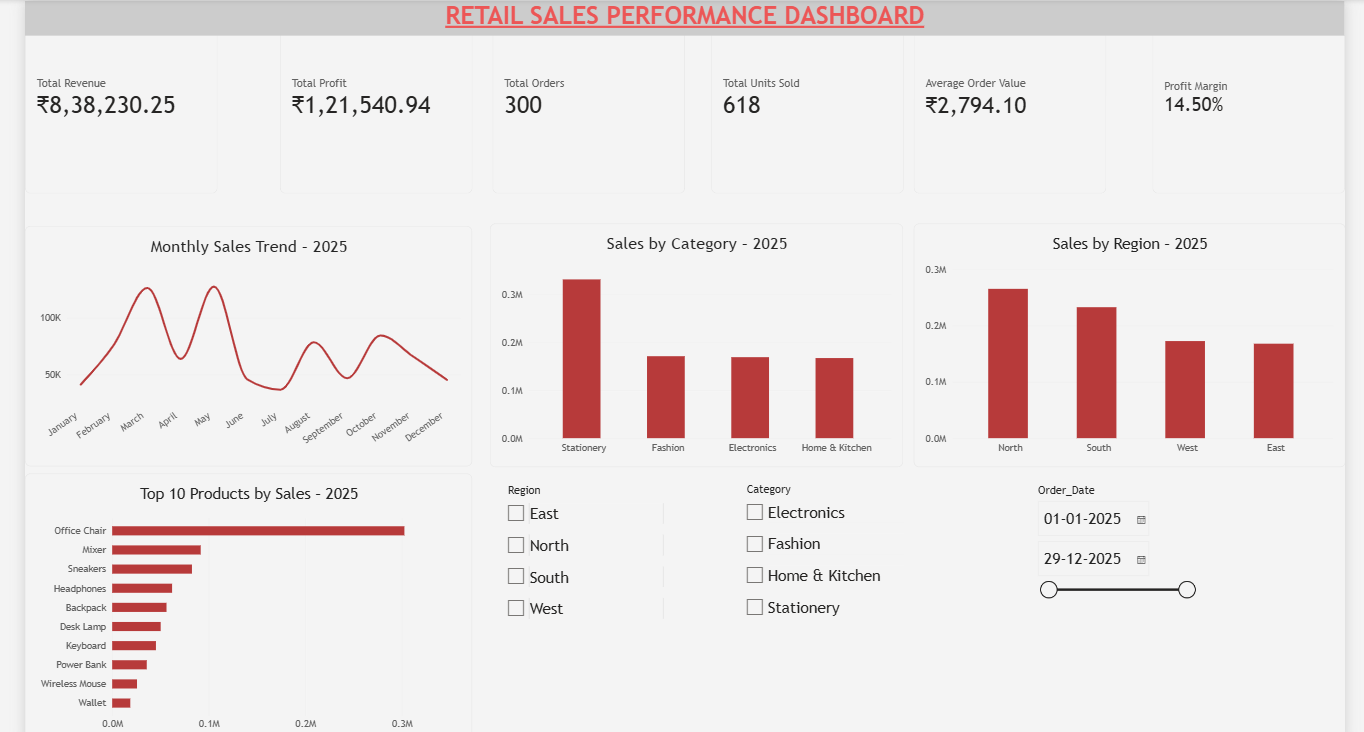

This screenshot's page, from the dashboard's own definition file:
{"tool":"powerbi","page":{"name":"Page 1","canvas":[1920,1080],"ordinal":0},"visuals":[{"type":"cardVisual","fields":{"Data":["Raw_Data.Total Revenue"]},"box":[0,0,280,280],"z":0},{"type":"cardVisual","fields":{"Data":["Raw_Data.Total Orders"]},"box":[679.2,0,280,280],"z":1000},{"type":"cardVisual","fields":{"Data":["Raw_Data.Total Units Sold"]},"box":[998.3,0,280,280],"z":2000},{"type":"cardVisual","fields":{"Data":["Raw_Data.Total Profit"]},"box":[370.5,0,280,280],"z":3000},{"type":"cardVisual","fields":{"Data":["Raw_Data.Average Order Value"]},"box":[1292.6,0,280,280],"z":4000},{"type":"cardVisual","fields":{"Data":["Raw_Data.Profit Margin"]},"box":[1640.5,0,280,280],"z":5000},{"type":"lineChart","title":"Monthly Sales Trend – 2025","fields":{"Category":["Raw_Data.Order_Date.Variation.Date Hierarchy.Month"],"Y":["Sum(Raw_Data.Sales_INR)"]},"box":[0,327.3,650.4,349.9],"z":6000},{"type":"clusteredColumnChart","title":"Sales by Category – 2025","fields":{"Category":["Raw_Data.Category"],"Y":["Sum(Raw_Data.Sales_INR)"]},"box":[676.9,323.1,601,354],"z":7000},{"type":"clusteredColumnChart","title":"Sales by Region – 2025","fields":{"Category":["Raw_Data.Region"],"Y":["Sum(Raw_Data.Sales_INR)"]},"box":[1292.6,323.2,627.8,354],"z":8000},{"type":"clusteredBarChart","title":"Top 10 Products by Sales – 2025","fields":{"Category":["Raw_Data.Product"],"Y":["Sum(Raw_Data.Sales_INR)"]},"box":[0,687.5,650.4,393.1],"z":9000},{"type":"slicer","title":"Region","fields":{"Values":["Raw_Data.Region"]},"box":[695,701.1,234.4,222.1],"z":10000},{"type":"slicer","fields":{"Values":["Raw_Data.Category"]},"box":[1042.3,700,236.5,225],"z":11000},{"type":"slicer","fields":{"Values":["Raw_Data.Order_Date"]},"box":[1466,701.1,240.6,222.1],"z":12000},{"type":"textbox","title":"RETAIL SALES PERFORMANCE DASHBOARD","box":[0,0,1919.2,50],"z":13000}]}

Visuals, with their boxes on the page's 1920x1080 design canvas (x1, y1, x2, y2). These are canvas units, not pixel positions in the 1364x732 screenshot, which may show the page scaled, cropped or inside an application window:
cardVisual - Raw_Data.Total Revenue: (left=0, top=0, right=280, bottom=280)
cardVisual - Raw_Data.Total Orders: (left=679, top=0, right=959, bottom=280)
cardVisual - Raw_Data.Total Units Sold: (left=998, top=0, right=1278, bottom=280)
cardVisual - Raw_Data.Total Profit: (left=370, top=0, right=650, bottom=280)
cardVisual - Raw_Data.Average Order Value: (left=1293, top=0, right=1573, bottom=280)
cardVisual - Raw_Data.Profit Margin: (left=1640, top=0, right=1920, bottom=280)
"Monthly Sales Trend – 2025" lineChart: (left=0, top=327, right=650, bottom=677)
"Sales by Category – 2025" clusteredColumnChart: (left=677, top=323, right=1278, bottom=677)
"Sales by Region – 2025" clusteredColumnChart: (left=1293, top=323, right=1920, bottom=677)
"Top 10 Products by Sales – 2025" clusteredBarChart: (left=0, top=688, right=650, bottom=1081)
"Region" slicer: (left=695, top=701, right=929, bottom=923)
slicer - Raw_Data.Category: (left=1042, top=700, right=1279, bottom=925)
slicer - Raw_Data.Order_Date: (left=1466, top=701, right=1707, bottom=923)
"RETAIL SALES PERFORMANCE DASHBOARD" textbox: (left=0, top=0, right=1919, bottom=50)
